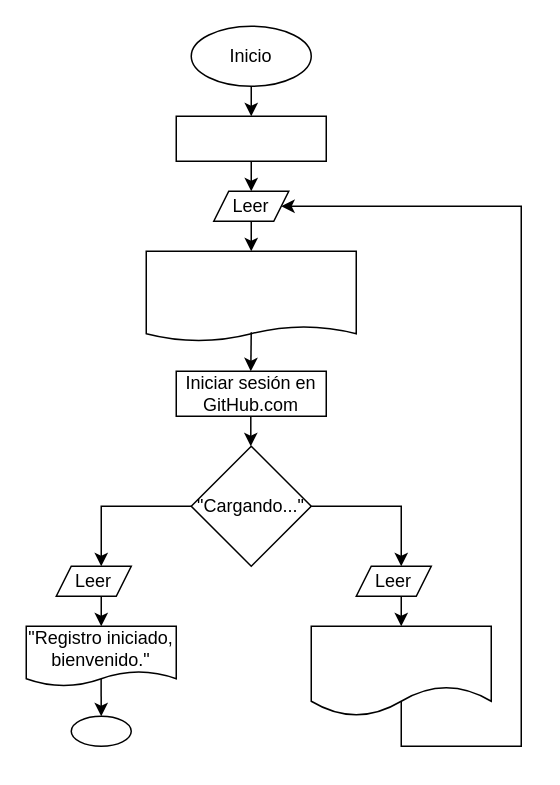
Image size: 560x785. Some labels were removed from this diagram. The box of each missing label's shape, as (x1, y1, x2, y2) in pixels:
"Correo electrónico o contraseña inválidos, inténtalo de nuevo.": (310, 625, 491, 716)
"Introduzca su correo electrónico y contraseña en Github.": (145, 250, 356, 341)
Fin: (70, 715, 131, 746)
Registrarse en GitHub.com: (175, 115, 326, 161)
